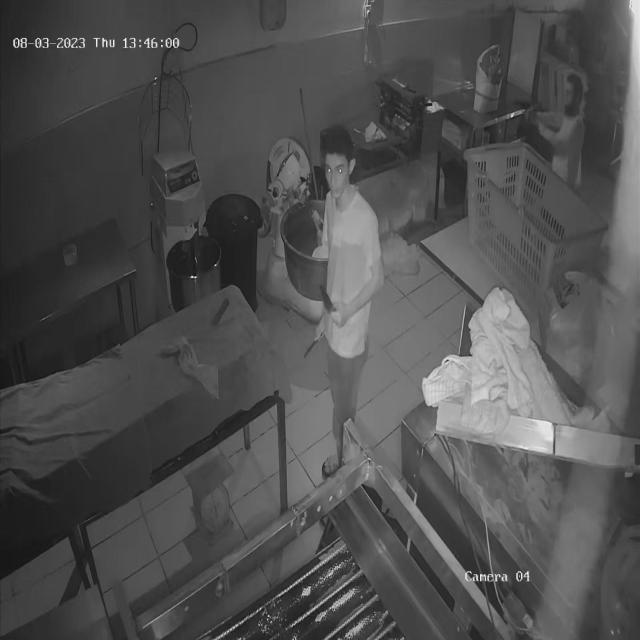Knife: (309, 283, 351, 331)
